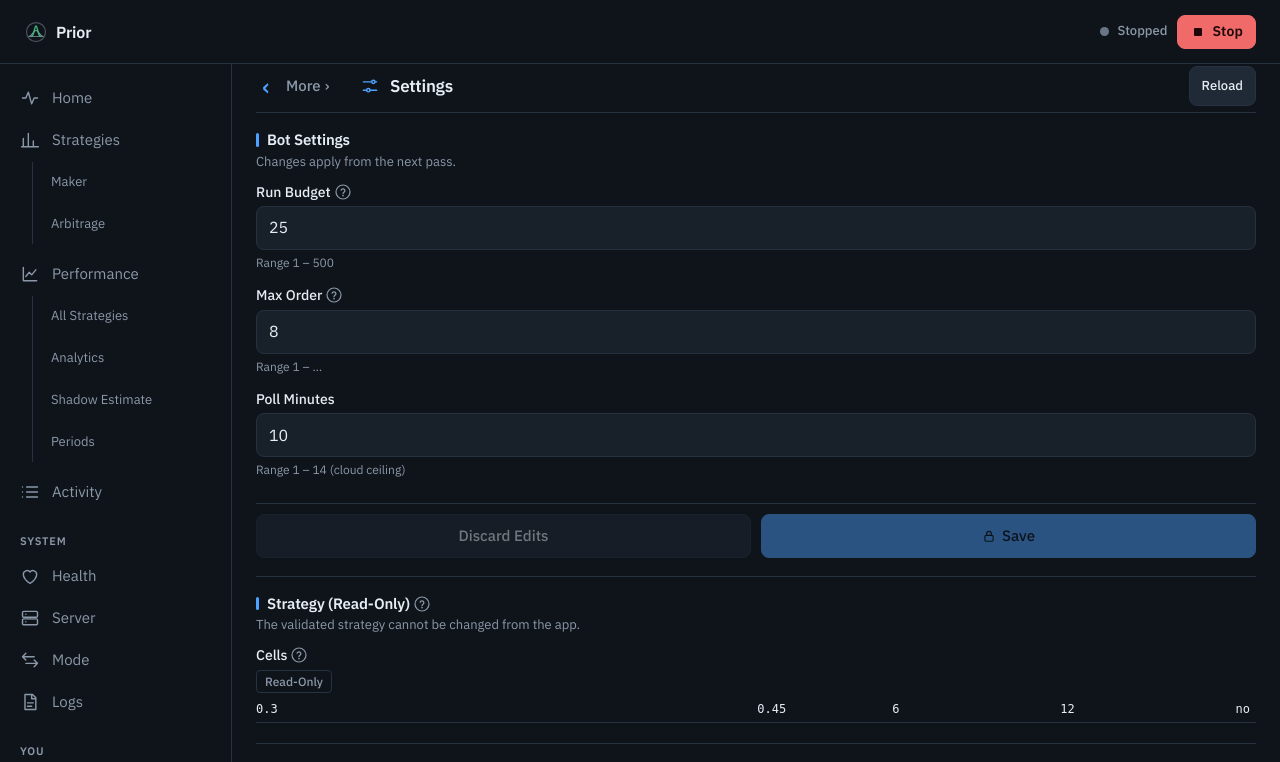
Test case: Settings change preview and undo › shows what will change, with money formatted, before any 2FA prompt
Expected: the text "Changes To Review" is not shown
Replace the text in the number field labelled "Run Budget" with "50" at (756, 228), box [256,206,1256,250]
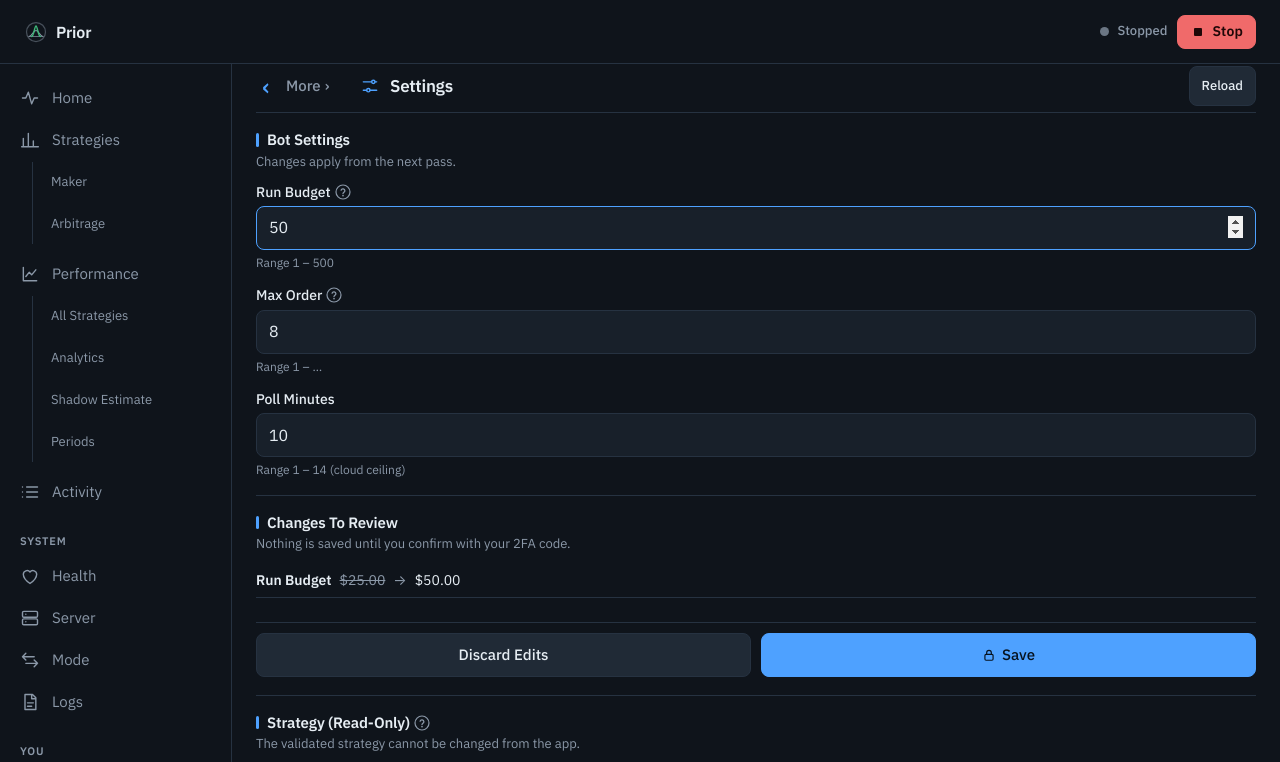
Expected: the text "Run Budget" is shown, [256,570,332,591]
Expected: the text "$25.00" is shown, [340,570,385,591]
Expected: the text "$50.00" is shown, [415,570,460,591]
